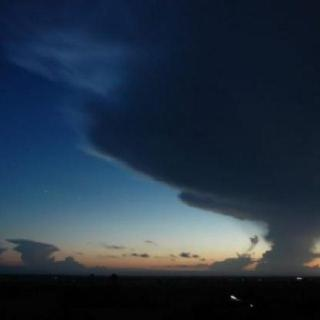Cumulonimbus: (0, 4, 320, 272)
